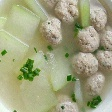dongguawanzi: (1, 1, 112, 112)
